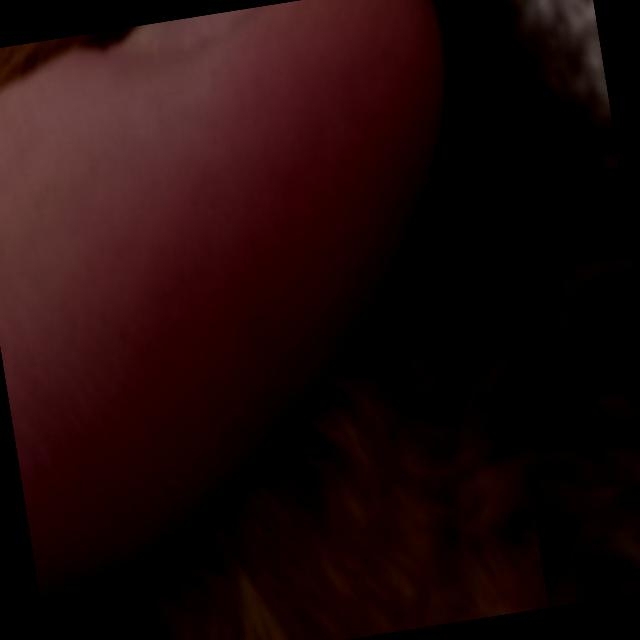fem: (532, 485, 640, 607)
